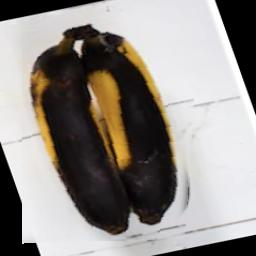Banana Rotten: (23, 19, 201, 244)
